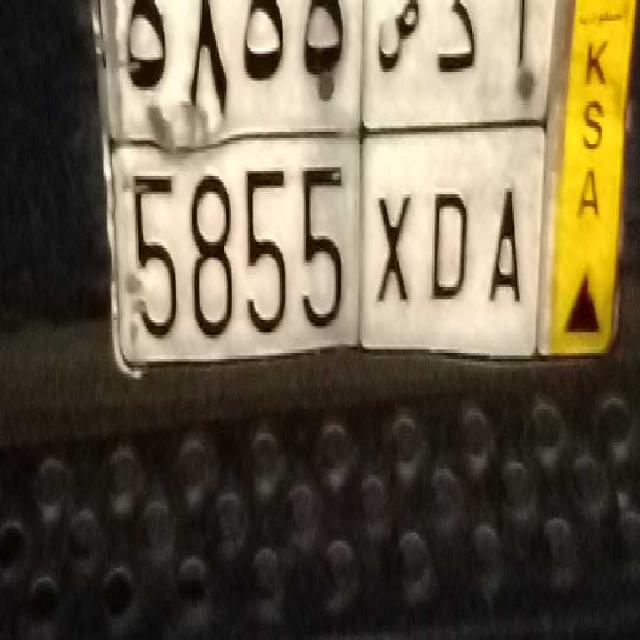license_plate: (114, 130, 534, 364)
